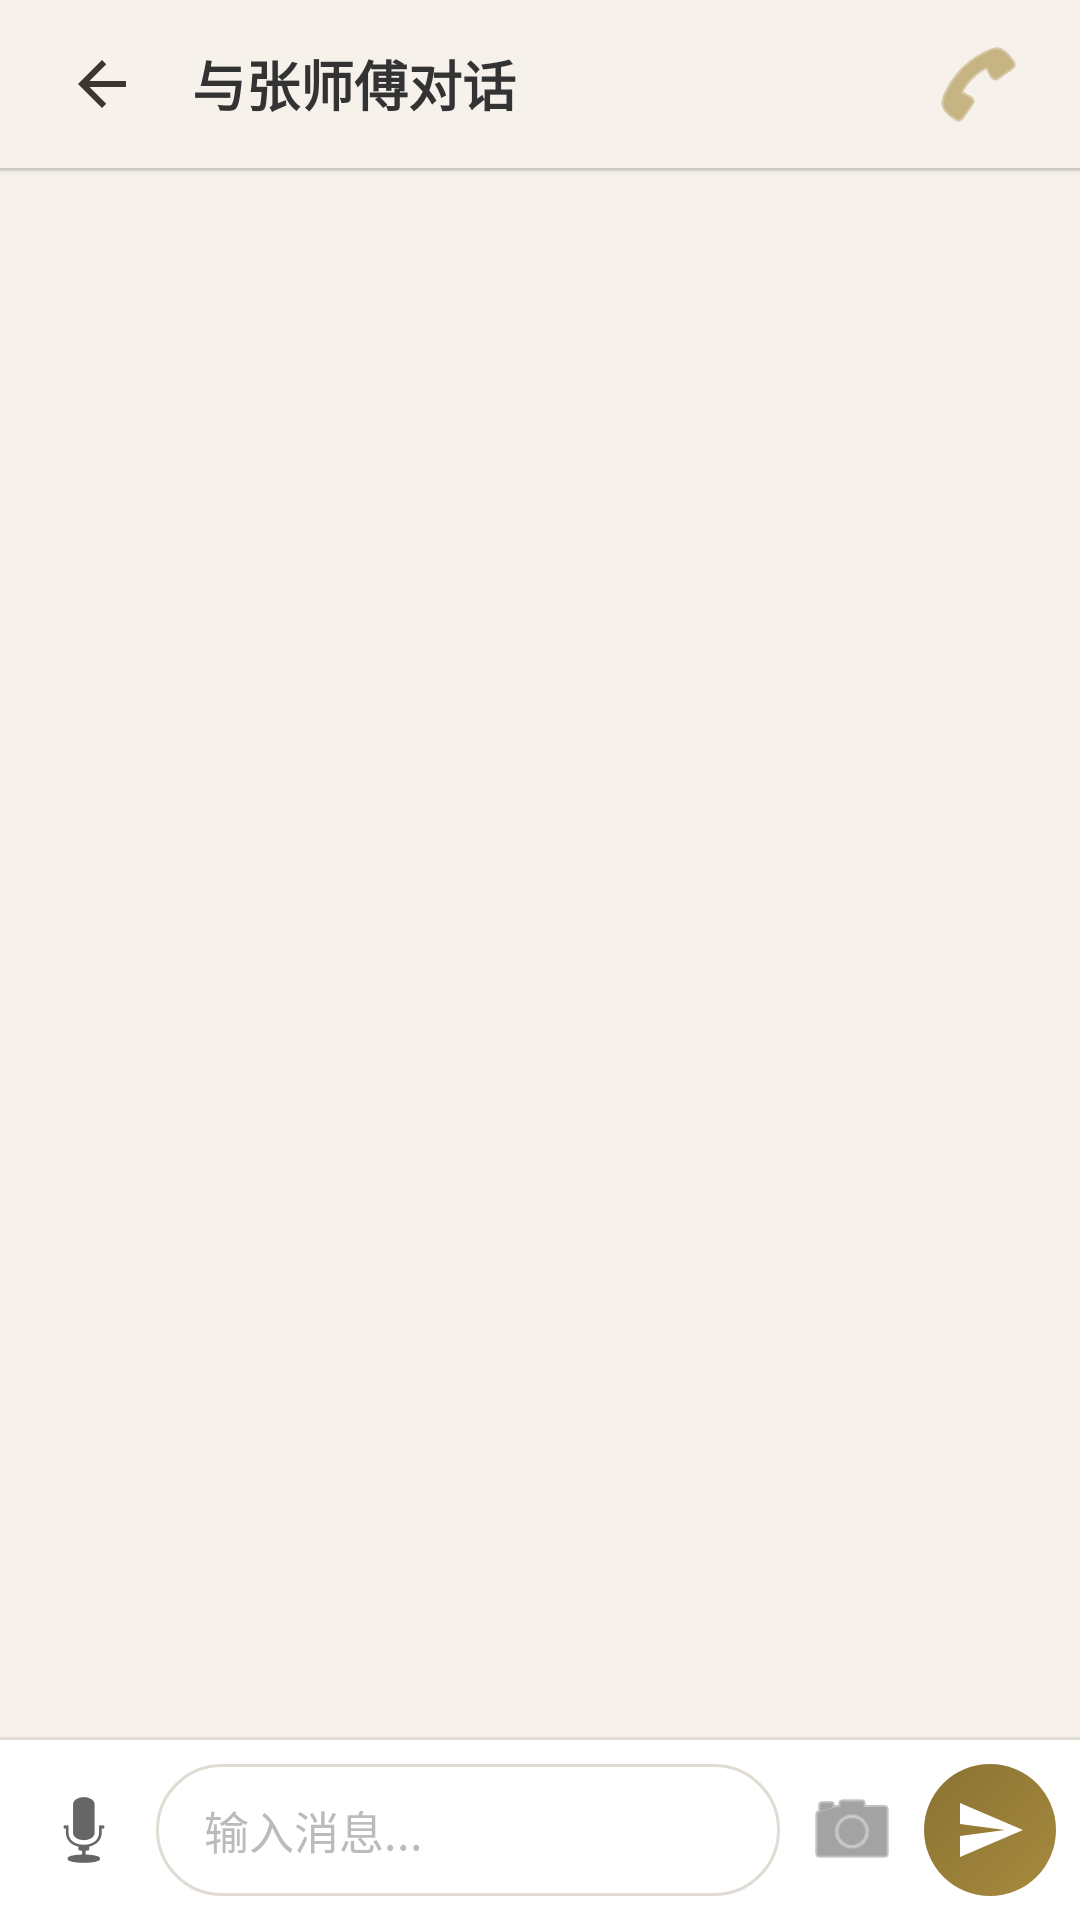

Named icons in this screenshot (1080×1920) and their bounding boxes, (x1, y1, x2, y2):
发送: (924, 1764, 1056, 1896)
图片: (815, 1799, 889, 1858)
联系方式: (941, 47, 1016, 122)
语音: (63, 1797, 105, 1863)
返回: (78, 60, 126, 108)
